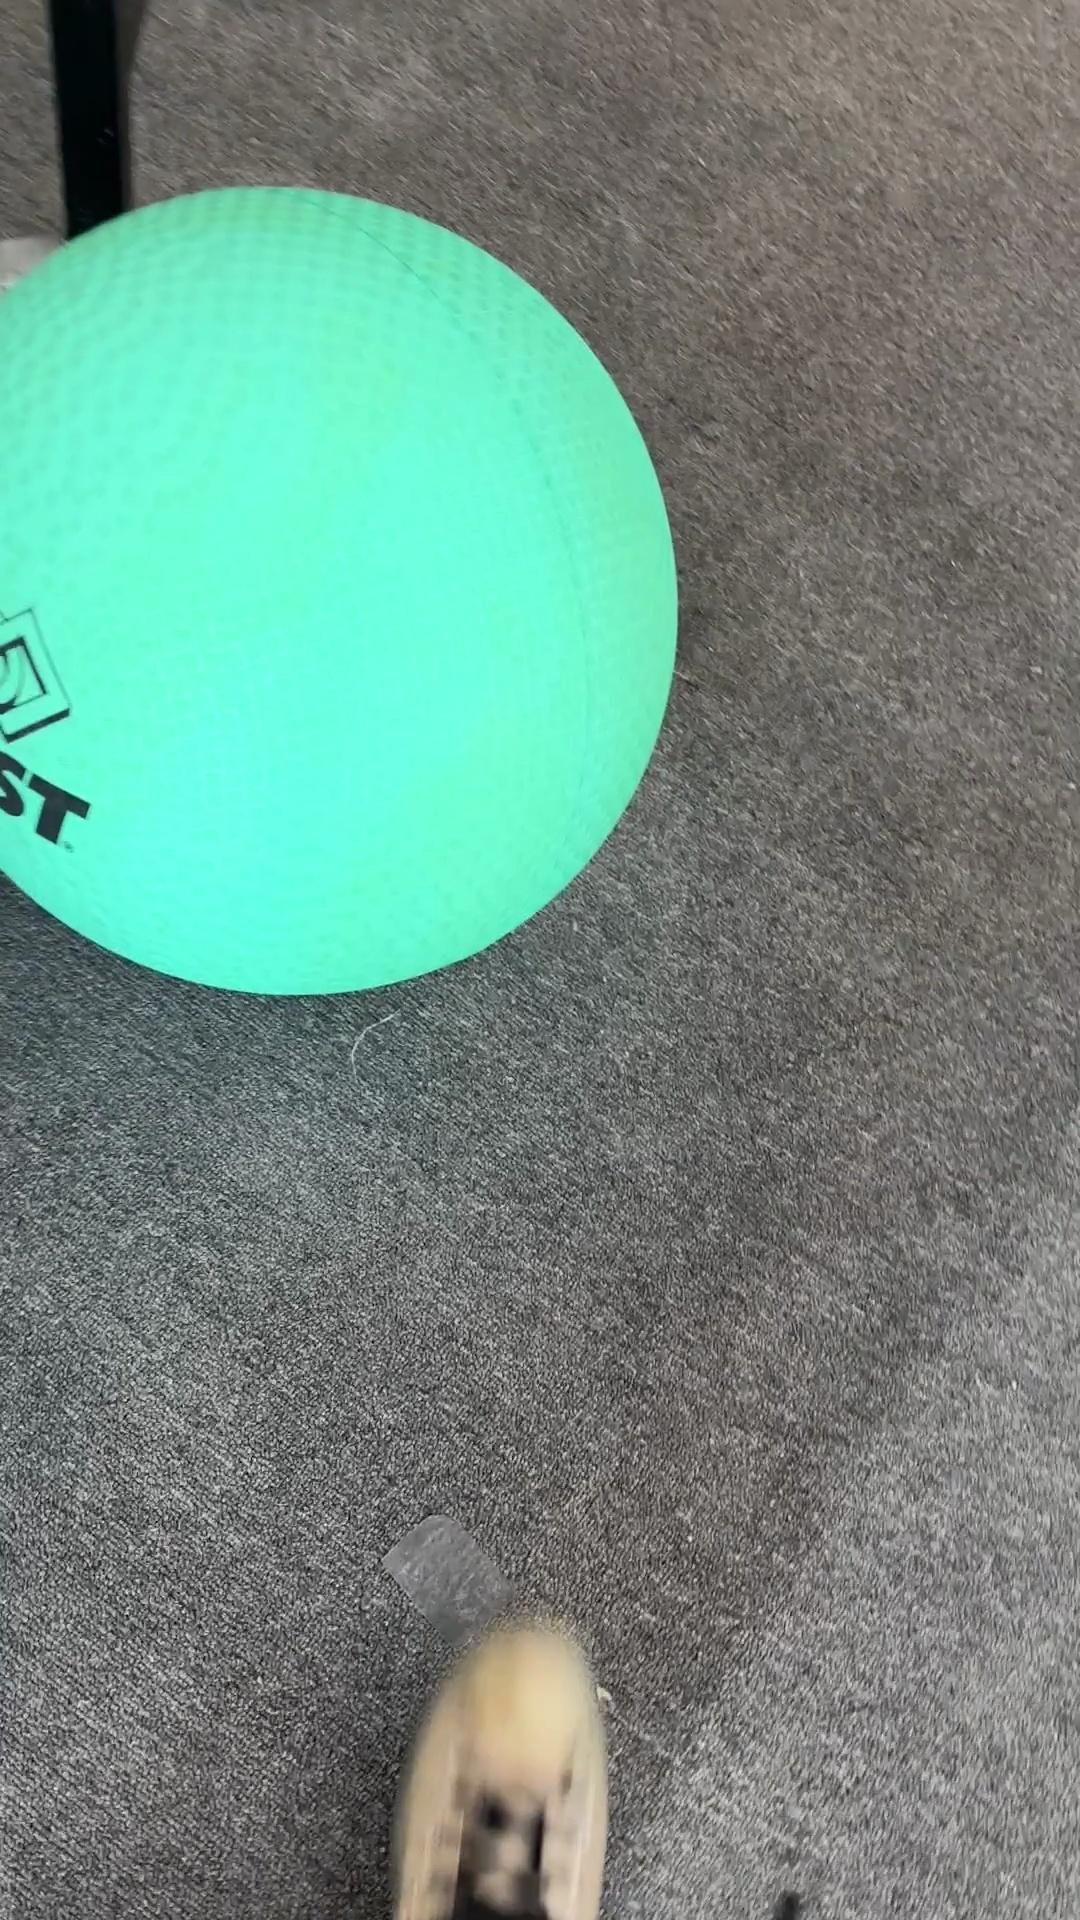ALGAE: (1, 182, 680, 1000)
